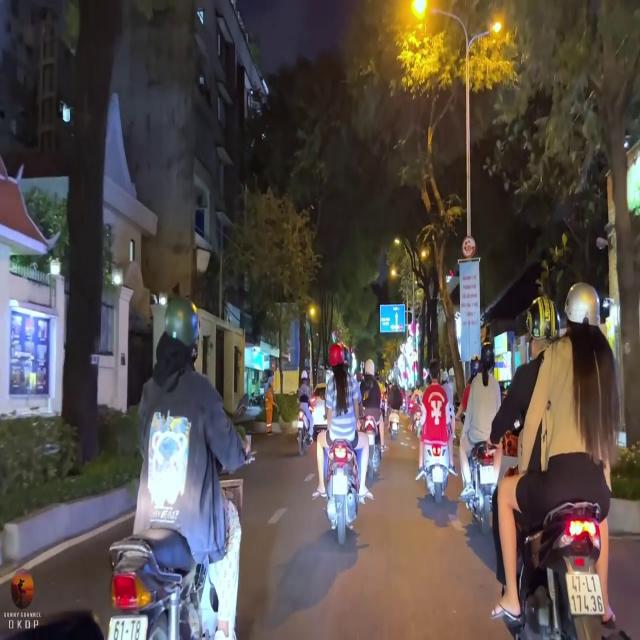bien_trang: (564, 572, 604, 618), (106, 613, 145, 640)
